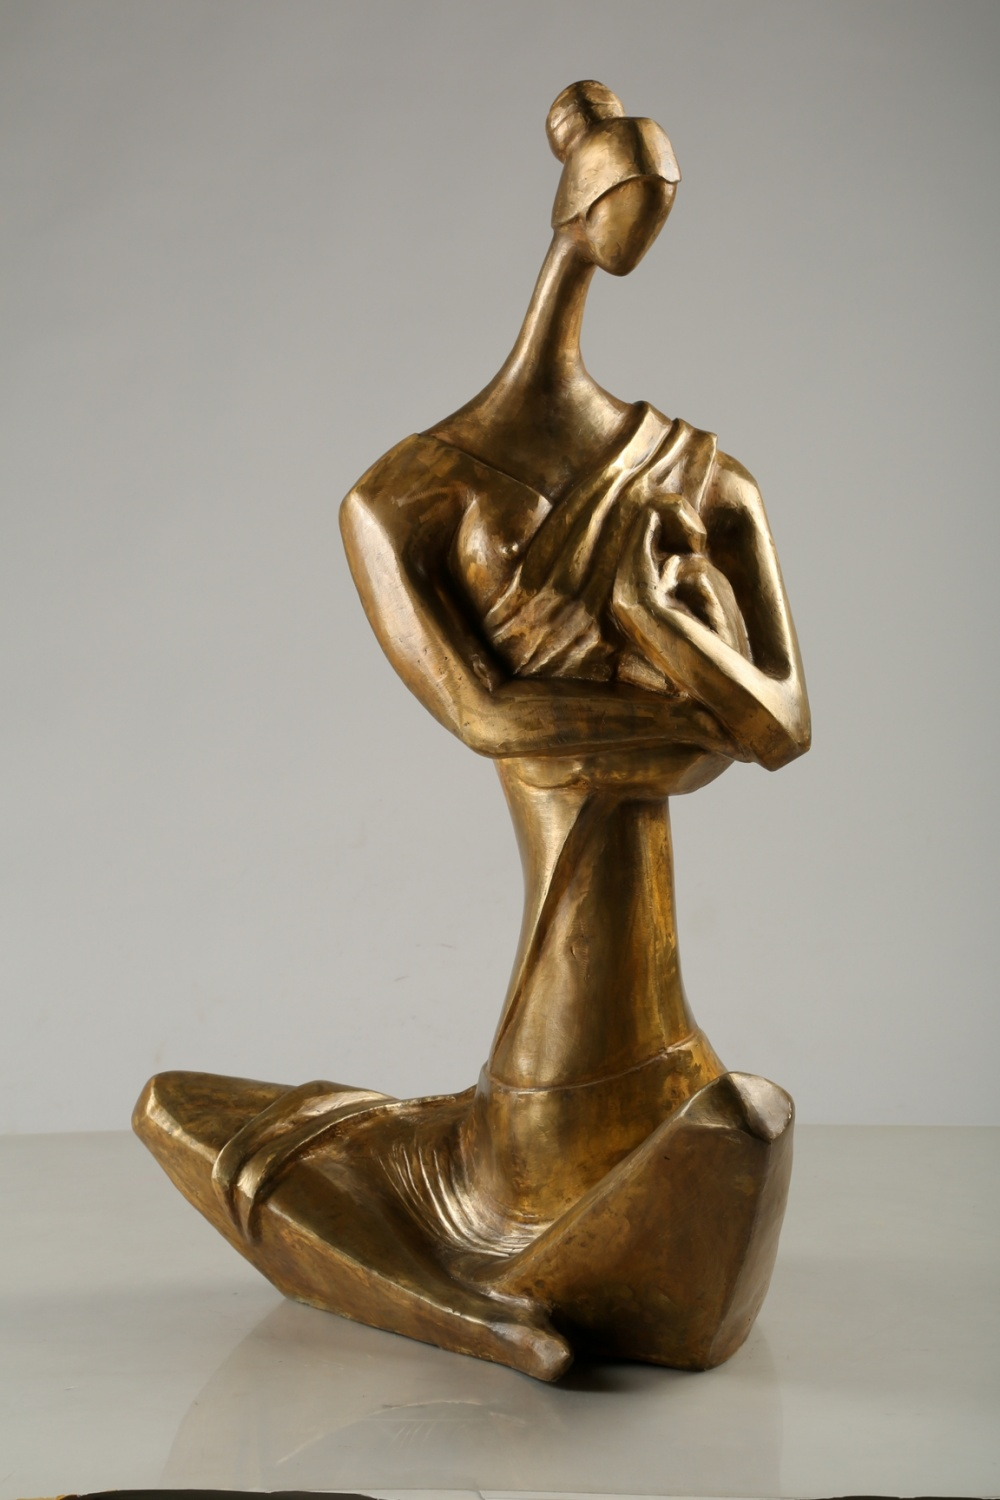person-like: (118, 59, 824, 1396)
